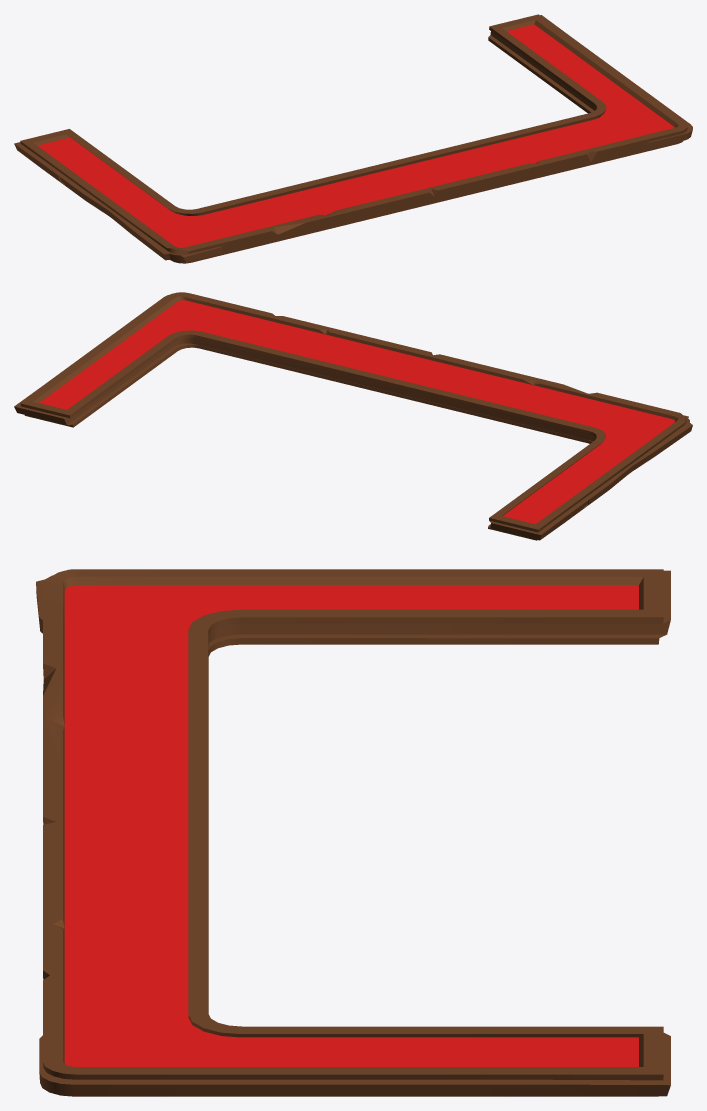
File: Blat.fbx
3 views of the same model, one above another, from view 1: azimuth 30°, elevation 25°; view 2: azimuth 150°, elevation 25°; view 3: azimuth 270°, elevation 25° (orthographic). The views are drawn at different scales.
Visible parts, largest first — view 1: Cube.008; view 2: Cube.008; view 3: Cube.008.
Part boxes in pixels (x1,y1,x2,y2): Cube.008: (14,14,692,263); Cube.008: (14,292,692,540); Cube.008: (36,569,670,1096).
Size of the model in its own units: 2548 by 61.33 by 1327.
